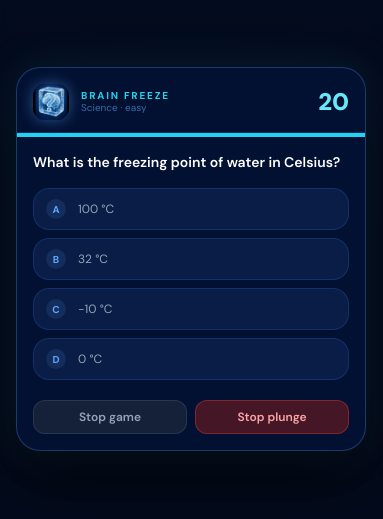
BrainFreezeGame cold bonus – 45 °F (< 50 °F → "+30% cold bonus") › shows the cold bonus label after a correct answer
The width and height of the screenshot is (383, 519).
Expected: the text "What is the freezing point of water in Celsius?" is shown, [33,153,349,172]
Click the text "0 °C".
click(90, 359)  # box [78,351,102,367]
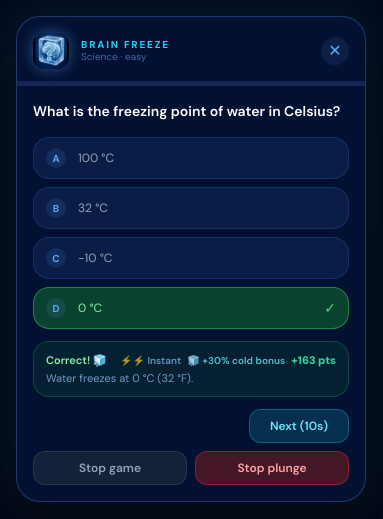
Expected: the text "🧊 +30% cold bonus" is shown, [187,353,285,368]
